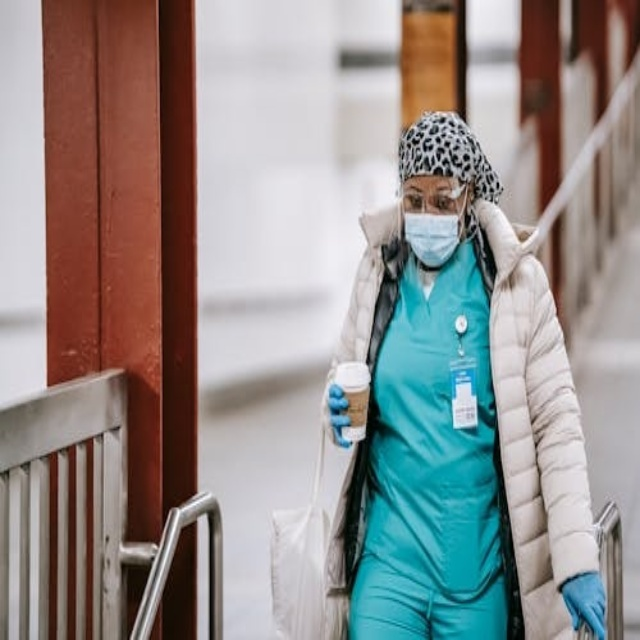Gafas: (401, 181, 468, 215)
Guantes: (560, 572, 609, 640), (327, 383, 354, 447)
Mascara: (402, 196, 465, 267)
